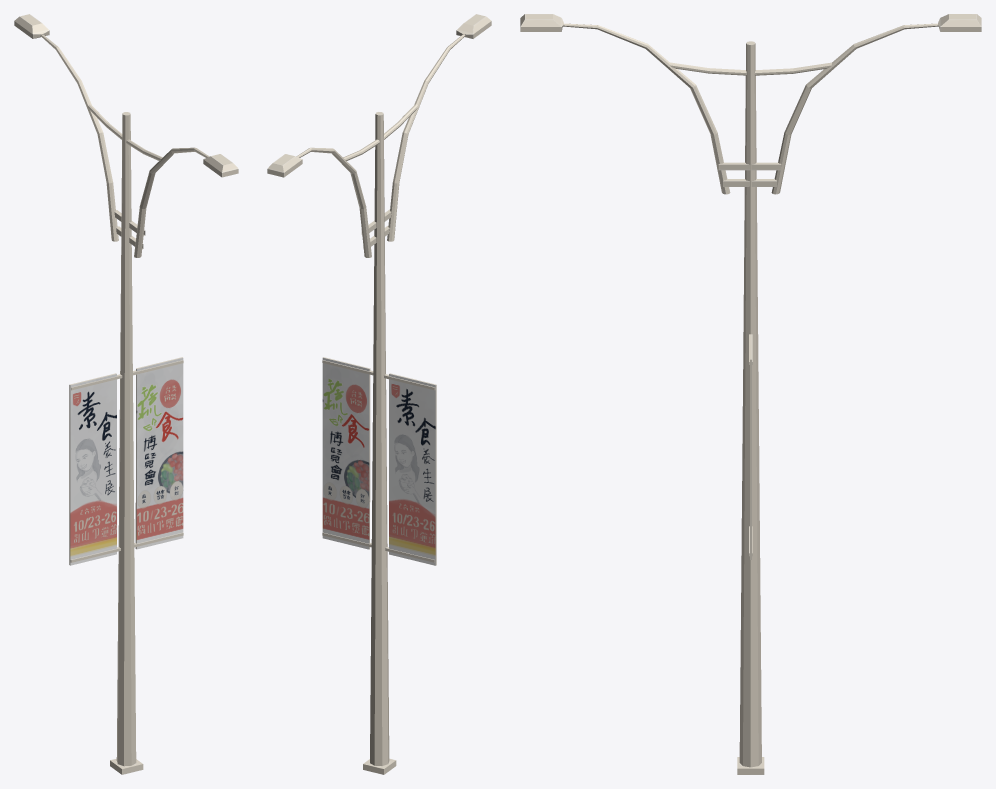
The model's file is Lampadaire.glb.
3 renders of one model, left to right at view 1: azimuth 30°, elevation 25°; view 2: azimuth 150°, elevation 25°; view 3: azimuth 270°, elevation 25°, orthographic. The views are drawn at different scales.
Visible parts, largest first — view 1: Lampadaire.01; view 2: Lampadaire.01; view 3: Lampadaire.01.
Boxes of the visible parts, box(x1,y1,x2,y2) form: Lampadaire.01: box(14, 14, 238, 774); Lampadaire.01: box(267, 14, 491, 774); Lampadaire.01: box(520, 14, 981, 774).
Bounding box in the file's own units: 0.6385 × 3.66 × 2.03.
1 material, 1 textured.
